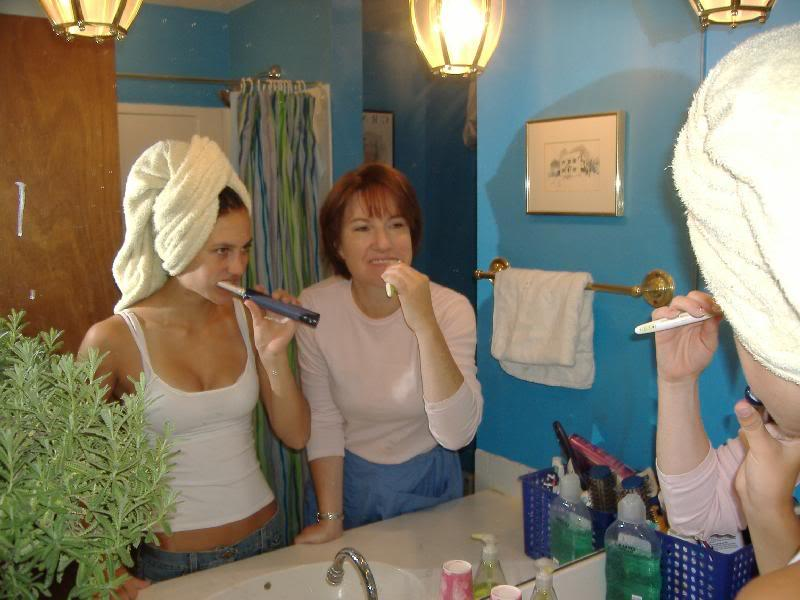person: (75, 136, 311, 600)
